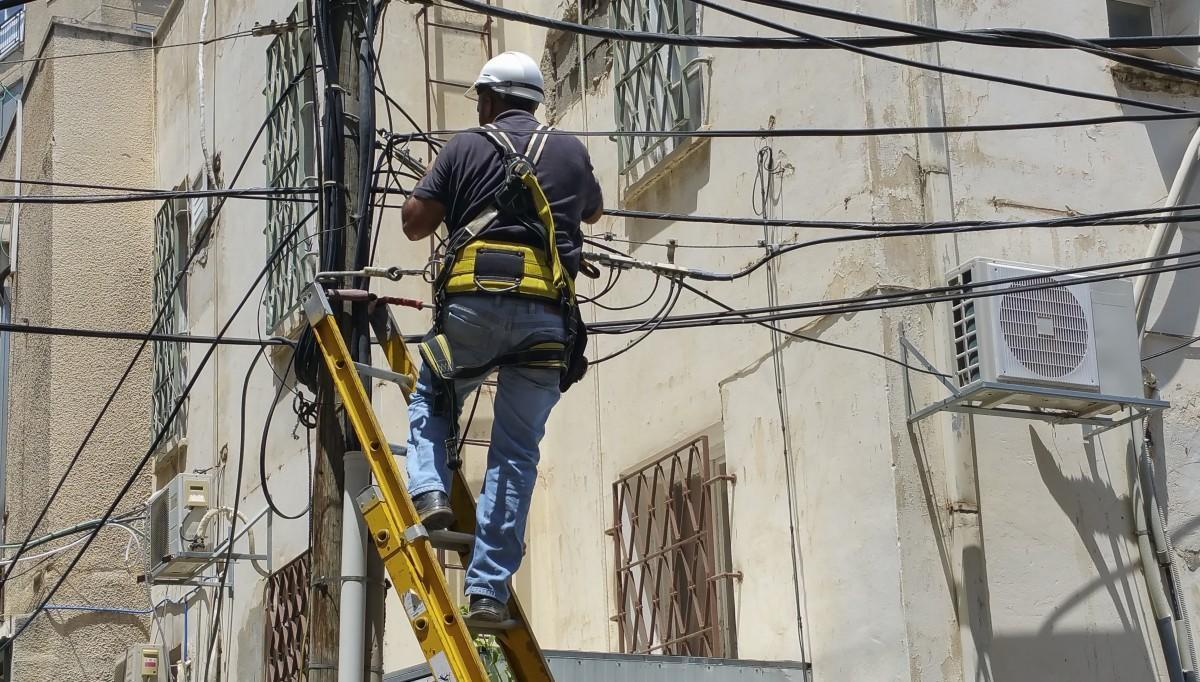Boots: (467, 44, 554, 102)
Glass: (412, 118, 610, 311)
